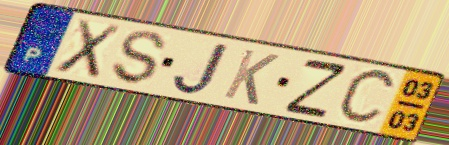C: (333, 67, 401, 127)
J: (169, 40, 233, 97)
K: (219, 46, 282, 108)
S: (110, 29, 169, 87)
X: (51, 17, 125, 81)
Z: (281, 57, 351, 119)
